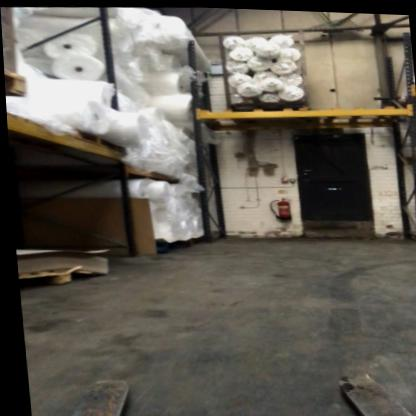vertical_damage: (407, 206, 416, 226)
